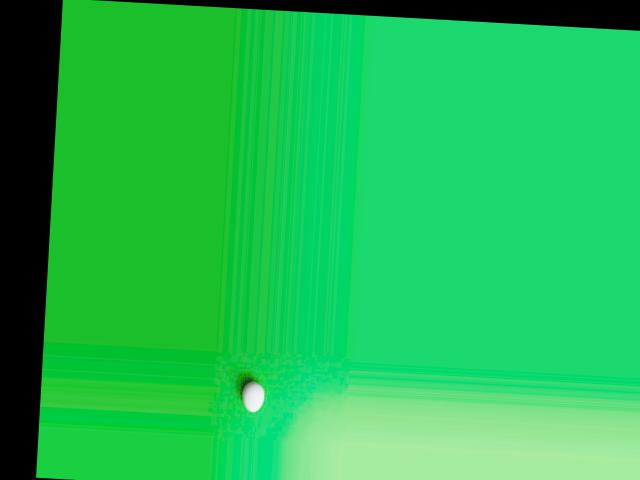egg: (241, 381, 265, 412)
